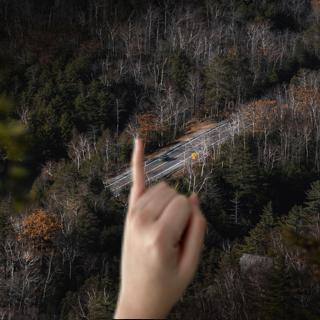Fine: (114, 131, 209, 314)
